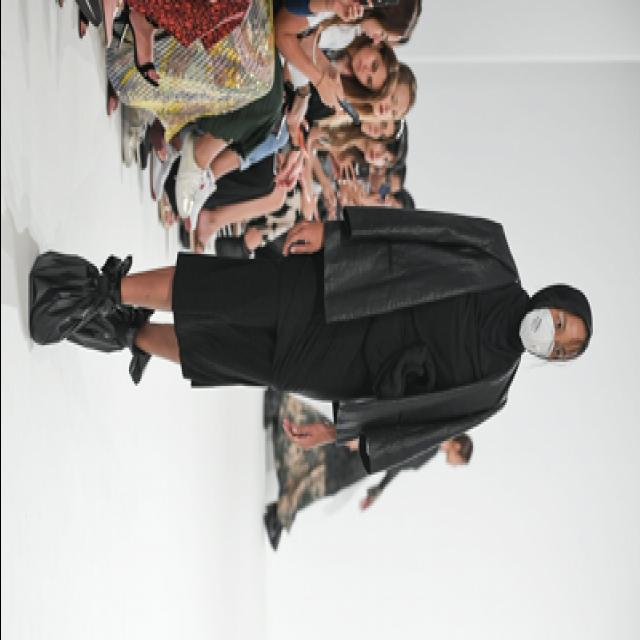mask: (518, 304, 568, 360)
no_mask: (349, 46, 381, 88), (358, 14, 392, 44), (371, 86, 400, 118), (364, 139, 390, 163), (369, 172, 394, 195), (362, 117, 388, 139), (444, 453, 462, 467)
